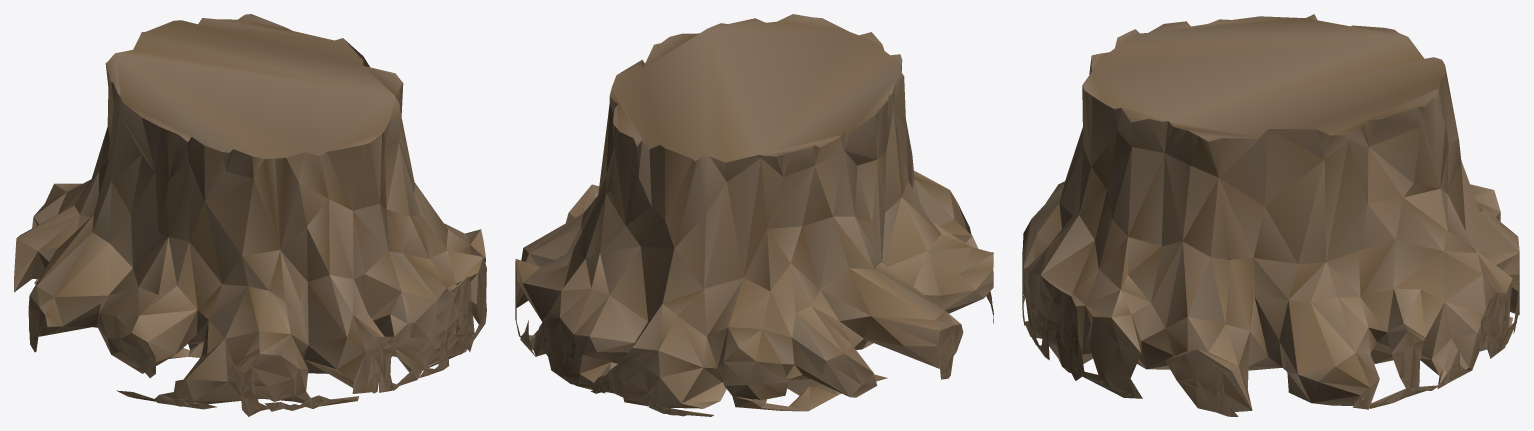
The model's file is sycamore_stump.glb.
3 renders of one model, left to right at view 1: azimuth 30°, elevation 25°; view 2: azimuth 150°, elevation 25°; view 3: azimuth 270°, elevation 25°, orthographic. The views are drawn at different scales.
Visible parts, largest first — view 1: Stump; view 2: Stump; view 3: Stump.
Part boxes in pixels (x1=…): Stump: x1=14, y1=14, x2=486, y2=416; Stump: x1=515, y1=14, x2=993, y2=416; Stump: x1=1022, y1=14, x2=1519, y2=416.
Bounding box in the file's own units: 1.6 × 0.8781 × 1.6.
